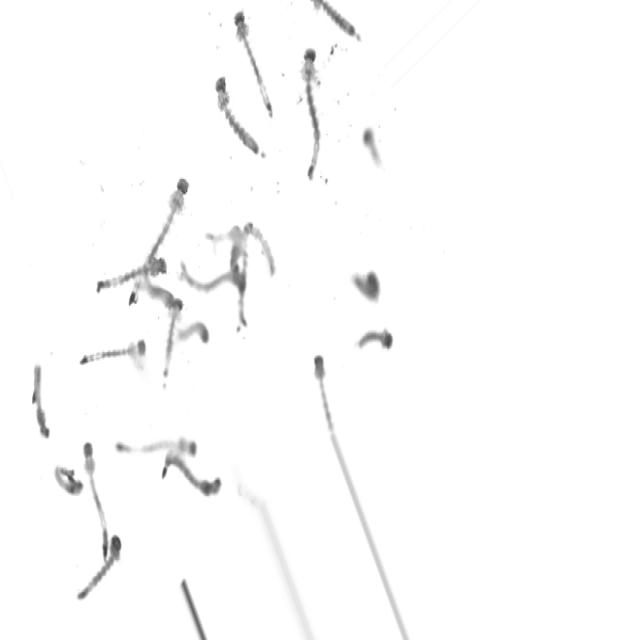larvas: (119, 160, 204, 302), (283, 34, 342, 212), (288, 314, 378, 425), (220, 0, 284, 144), (201, 52, 269, 184), (298, 0, 385, 81), (72, 514, 136, 619), (193, 218, 259, 314), (225, 212, 292, 296), (116, 412, 224, 464), (141, 449, 246, 499), (69, 325, 155, 385), (80, 420, 115, 567), (92, 241, 177, 299), (350, 325, 430, 383), (349, 252, 404, 318), (153, 278, 187, 380), (25, 349, 58, 454), (345, 115, 390, 189), (178, 260, 254, 302), (51, 459, 92, 527), (184, 310, 210, 368)
